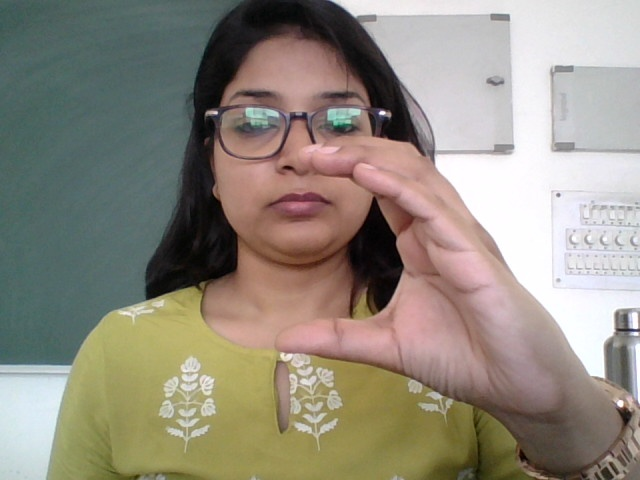C: (264, 141, 570, 413)
